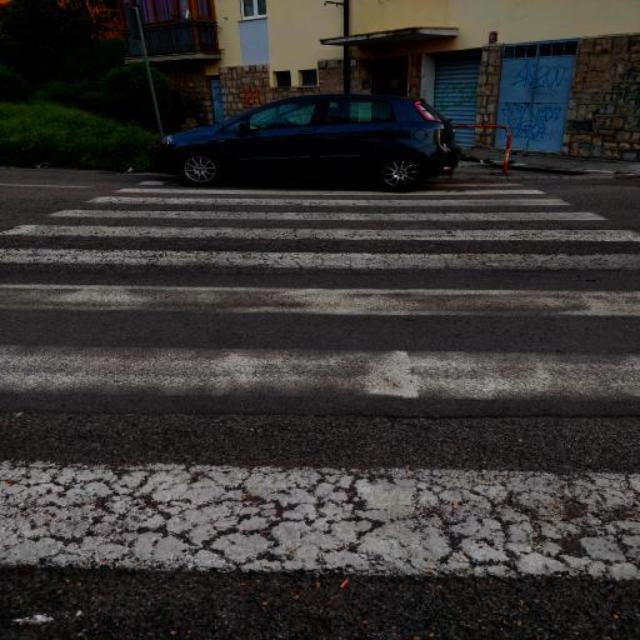sidewalk: (4, 184, 636, 585)
